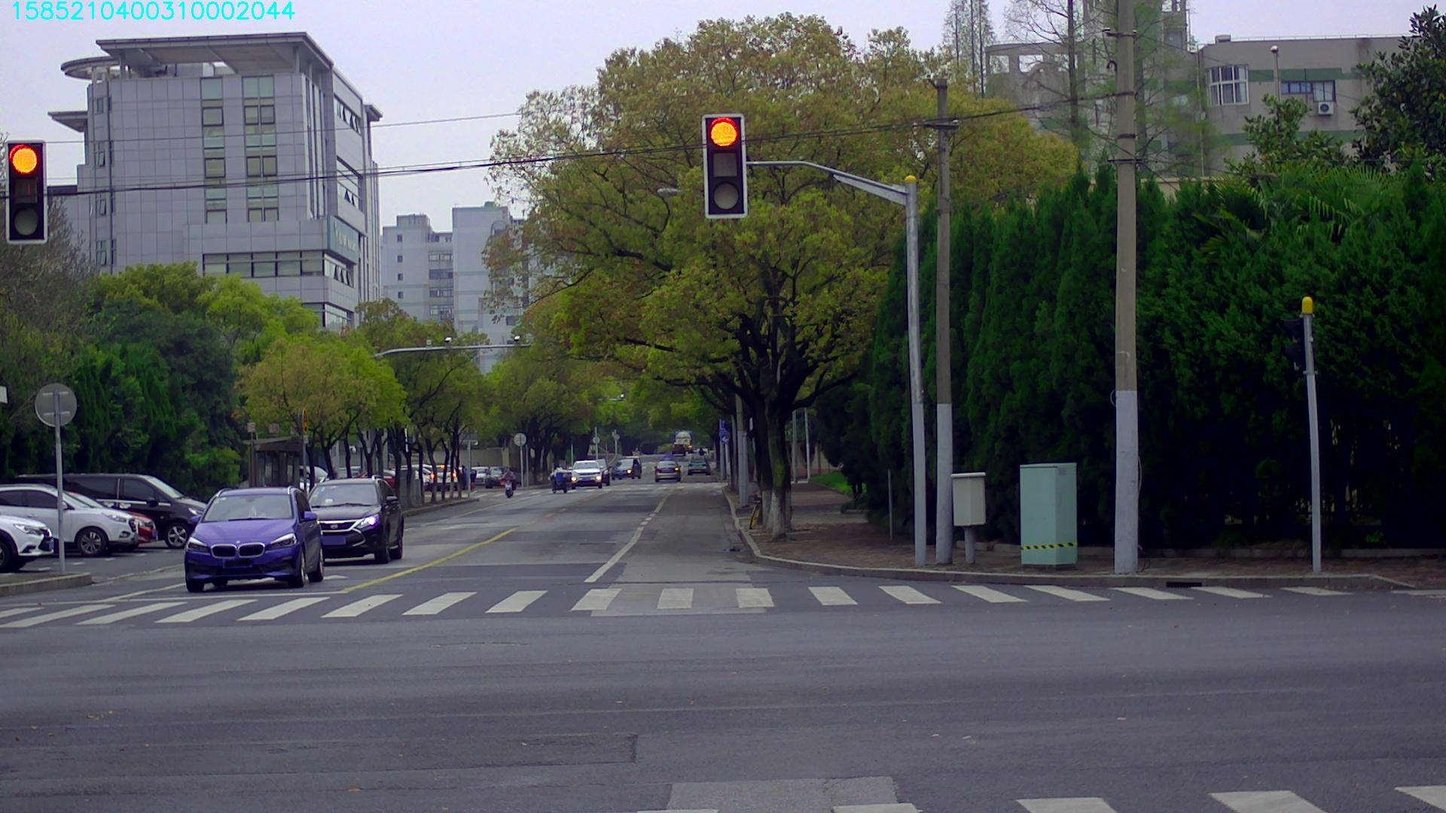red: (705, 114, 745, 217), (7, 142, 44, 239)
